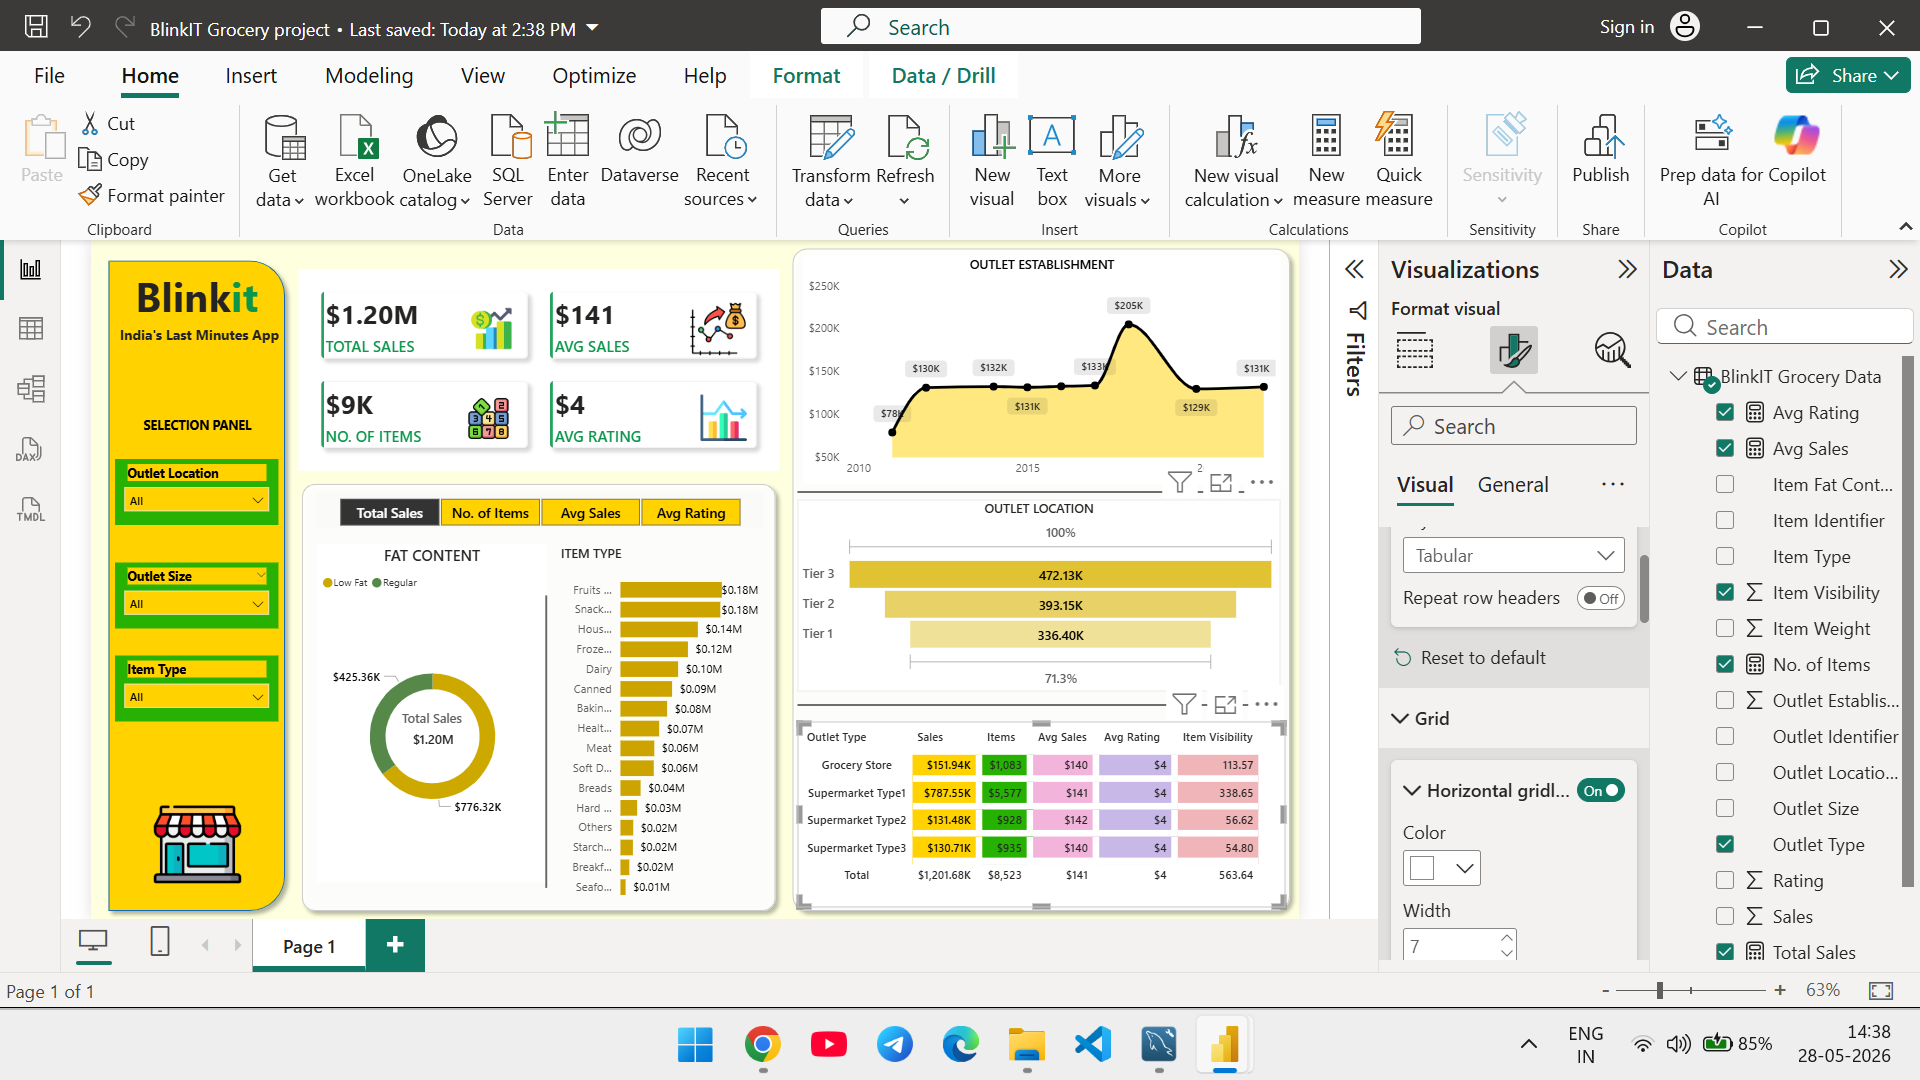

Layout of this report page (visuals, bound fields, positions):
{"tool":"powerbi","page":{"name":"Page 1","canvas":[1280,720],"ordinal":0},"visuals":[{"type":"shape","box":[9.5,12.7,205.2,707.8],"z":0},{"type":"textbox","box":[9.5,25.4,205.2,77.9],"z":1000},{"type":"textbox","box":[25.4,84.3,200.4,38.2],"z":2000},{"type":"cardVisual","fields":{"Data":["BlinkIT Grocery Data.Total Sales","BlinkIT Grocery Data.Avg Sales","BlinkIT Grocery Data.No. of Items","BlinkIT Grocery Data.Avg Rating"]},"box":[214.7,25.4,520.1,224.3],"z":3000},{"type":"shape","box":[214.7,249.7,520.1,470.8],"z":4000},{"type":"donutChart","title":"FAT CONTENT","fields":{"Y":["BlinkIT Grocery Data.Total Sales"],"Category":["BlinkIT Grocery Data.Item Fat Content"]},"box":[240.2,322.9,243.4,357.9],"z":5000},{"type":"slicer","fields":{"Values":["metrics.metrics"]},"box":[238.6,267.2,474,38.2],"z":6000},{"type":"cardVisual","fields":{"Data":["BlinkIT Grocery Data.Total Sales"]},"box":[300.6,480.4,124.1,74.8],"z":7000},{"type":"shape","box":[462.9,377,39.8,310.2],"z":8000},{"type":"barChart","title":"ITEM TYPE","fields":{"Y":["BlinkIT Grocery Data.Total Sales"],"Category":["BlinkIT Grocery Data.Item Type"]},"box":[493.1,322.9,219.5,384.9],"z":9000},{"type":"shape","box":[734.9,0,545.6,720.5],"z":10000},{"type":"lineChart","title":"OUTLET ESTABLISHMENT","fields":{"Category":["BlinkIT Grocery Data.Outlet Establishment Year"],"Y":["BlinkIT Grocery Data.Total Sales"]},"box":[755.5,15.9,505.8,243.4],"z":11000},{"type":"shape","box":[749.2,257.7,505.8,19.1],"z":12000},{"type":"funnel","title":"OUTLET LOCATION","fields":{"Category":["BlinkIT Grocery Data.Outlet Location Type"],"Y":["Sum(BlinkIT Grocery Data.Sales)"]},"box":[749.2,275.2,512.2,203.6],"z":13000},{"type":"shape","box":[749.2,483.5,505.8,19.1],"z":14000},{"type":"pivotTable","fields":{"Rows":["BlinkIT Grocery Data.Outlet Type"],"Values":["BlinkIT Grocery Data.Total Sales","BlinkIT Grocery Data.No. of Items","BlinkIT Grocery Data.Avg Sales","BlinkIT Grocery Data.Avg Rating","Sum(BlinkIT Grocery Data.Item Visibility)"]},"box":[749.2,510.6,516.9,197.2],"z":15000},{"type":"slicer","title":"Outlet location","fields":{"Values":["BlinkIT Grocery Data.Outlet Location Type"]},"box":[25.4,232.2,173.4,70],"z":16000},{"type":"slicer","title":"Outlet location","fields":{"Values":["BlinkIT Grocery Data.Outlet Size"]},"box":[25.4,342,173.4,70],"z":17000},{"type":"slicer","title":"Outlet location","fields":{"Values":["BlinkIT Grocery Data.Item Type"]},"box":[25.4,440.6,173.4,70],"z":18000},{"type":"textbox","box":[42.9,181.3,140,30.2],"z":19000},{"type":"image","box":[399.2,65.2,50.9,57.3],"z":20000},{"type":"image","box":[628.3,65.2,73.2,58.9],"z":21000},{"type":"image","box":[380.2,167,82.7,44.5],"z":22000},{"type":"image","box":[628.3,163.8,85.9,49.3],"z":23000},{"type":"image","box":[36.6,594.9,152.7,92.3],"z":24000}]}

Visuals, with their boxes on the page's 1280x720 design canvas (x1, y1, x2, y2). These are canvas units, not pixel positions in the 1920x1080 screenshot, which may show the page scaled, cropped or inside an application window:
shape: box(10, 13, 215, 720)
textbox: box(10, 25, 215, 103)
textbox: box(25, 84, 226, 122)
cardVisual - BlinkIT Grocery Data.Total Sales x BlinkIT Grocery Data.Avg Sales: box(215, 25, 735, 250)
shape: box(215, 250, 735, 720)
"FAT CONTENT" donutChart: box(240, 323, 484, 681)
slicer - metrics.metrics: box(239, 267, 713, 305)
cardVisual - BlinkIT Grocery Data.Total Sales: box(301, 480, 425, 555)
shape: box(463, 377, 503, 687)
"ITEM TYPE" barChart: box(493, 323, 713, 708)
shape: box(735, 0, 1280, 720)
"OUTLET ESTABLISHMENT" lineChart: box(756, 16, 1261, 259)
shape: box(749, 258, 1255, 277)
"OUTLET LOCATION" funnel: box(749, 275, 1261, 479)
shape: box(749, 484, 1255, 503)
pivotTable - BlinkIT Grocery Data.Outlet Type x BlinkIT Grocery Data.Total Sales: box(749, 511, 1266, 708)
"Outlet location" slicer: box(25, 232, 199, 302)
"Outlet location" slicer: box(25, 342, 199, 412)
"Outlet location" slicer: box(25, 441, 199, 511)
textbox: box(43, 181, 183, 212)
image: box(399, 65, 450, 122)
image: box(628, 65, 702, 124)
image: box(380, 167, 463, 212)
image: box(628, 164, 714, 213)
image: box(37, 595, 189, 687)
